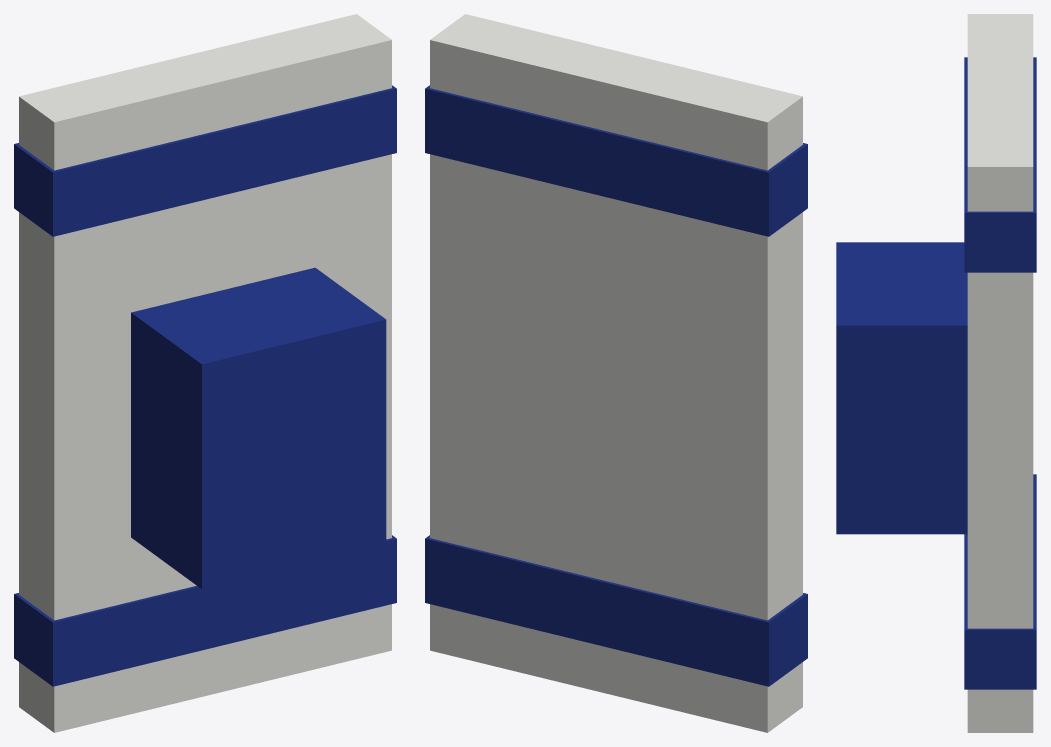
Rendered from goalie-blocker.obj.
3 renders of one model, left to right at view 1: azimuth 30°, elevation 25°; view 2: azimuth 150°, elevation 25°; view 3: azimuth 270°, elevation 25°, orthographic. The views are drawn at different scales.
Parts seen in each view (by area): view 1: GoalieBlocker; view 2: GoalieBlocker; view 3: GoalieBlocker.
Part boxes in pixels (x1,y1,x2,y2): GoalieBlocker: (14,14,396,732); GoalieBlocker: (425,14,807,732); GoalieBlocker: (836,14,1036,732).
Bounding box in the file's own units: 0.224 × 0.38 × 0.122.
